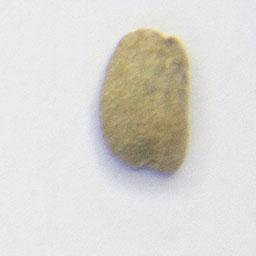defect: (96, 25, 193, 179)
